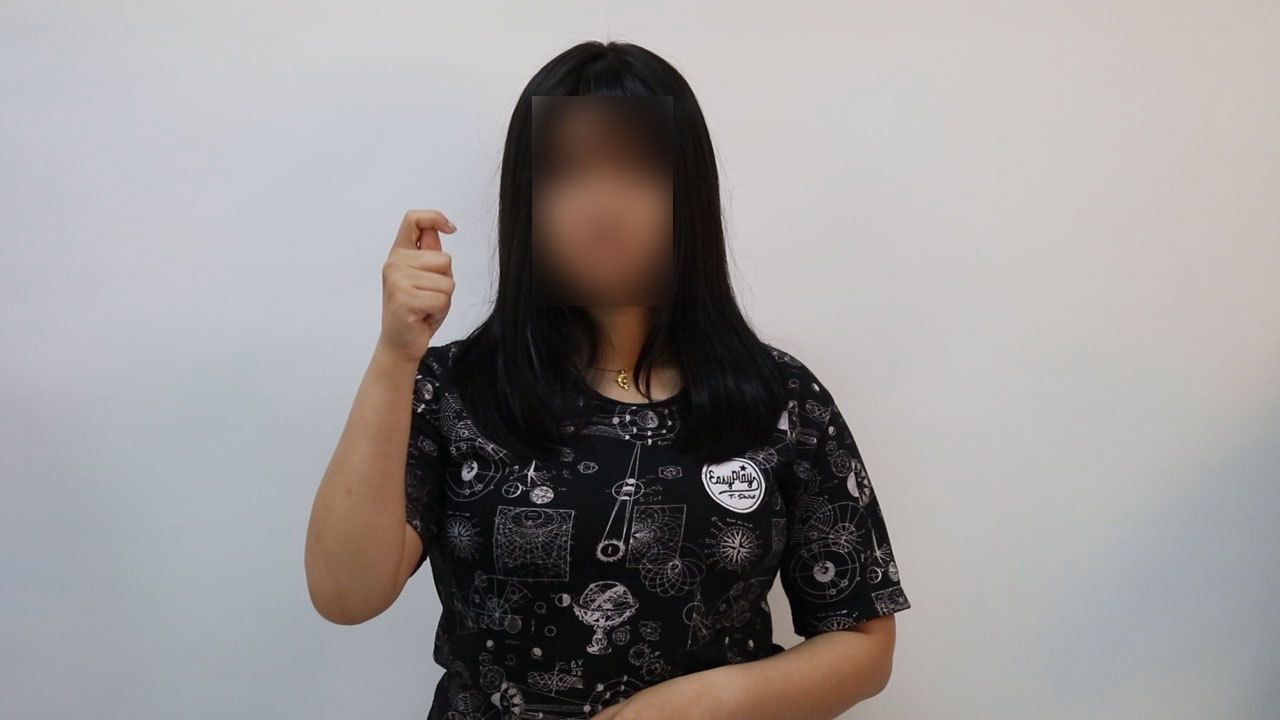or: (366, 201, 476, 370)
